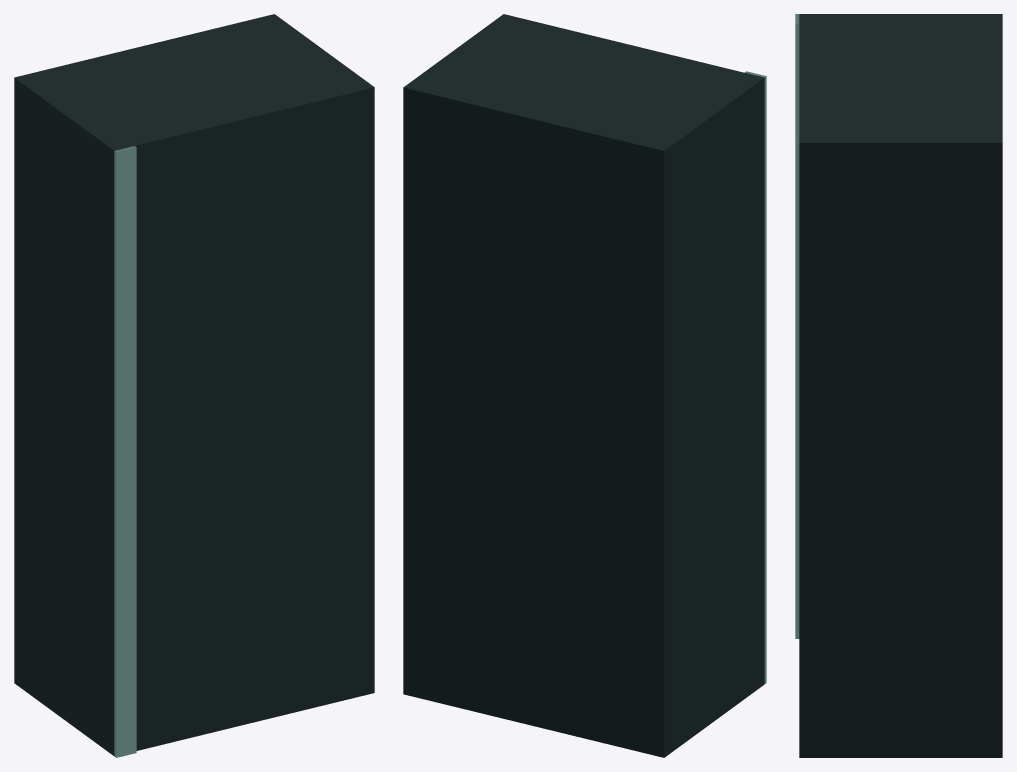
Rendered from Hall_Column.gltf.
3 views of the same model, side by side, from view 1: azimuth 30°, elevation 25°; view 2: azimuth 150°, elevation 25°; view 3: azimuth 270°, elevation 25° (orthographic).
Visible parts, largest first — view 1: Hall_Column_baked; view 2: Hall_Column_baked; view 3: Hall_Column_baked.
Part boxes in pixels (bbox=[...]): Hall_Column_baked: bbox=[14, 14, 374, 757]; Hall_Column_baked: bbox=[403, 14, 766, 757]; Hall_Column_baked: bbox=[795, 14, 1002, 757].
Size of the model in its own units: 0.45 by 1 by 0.306.
